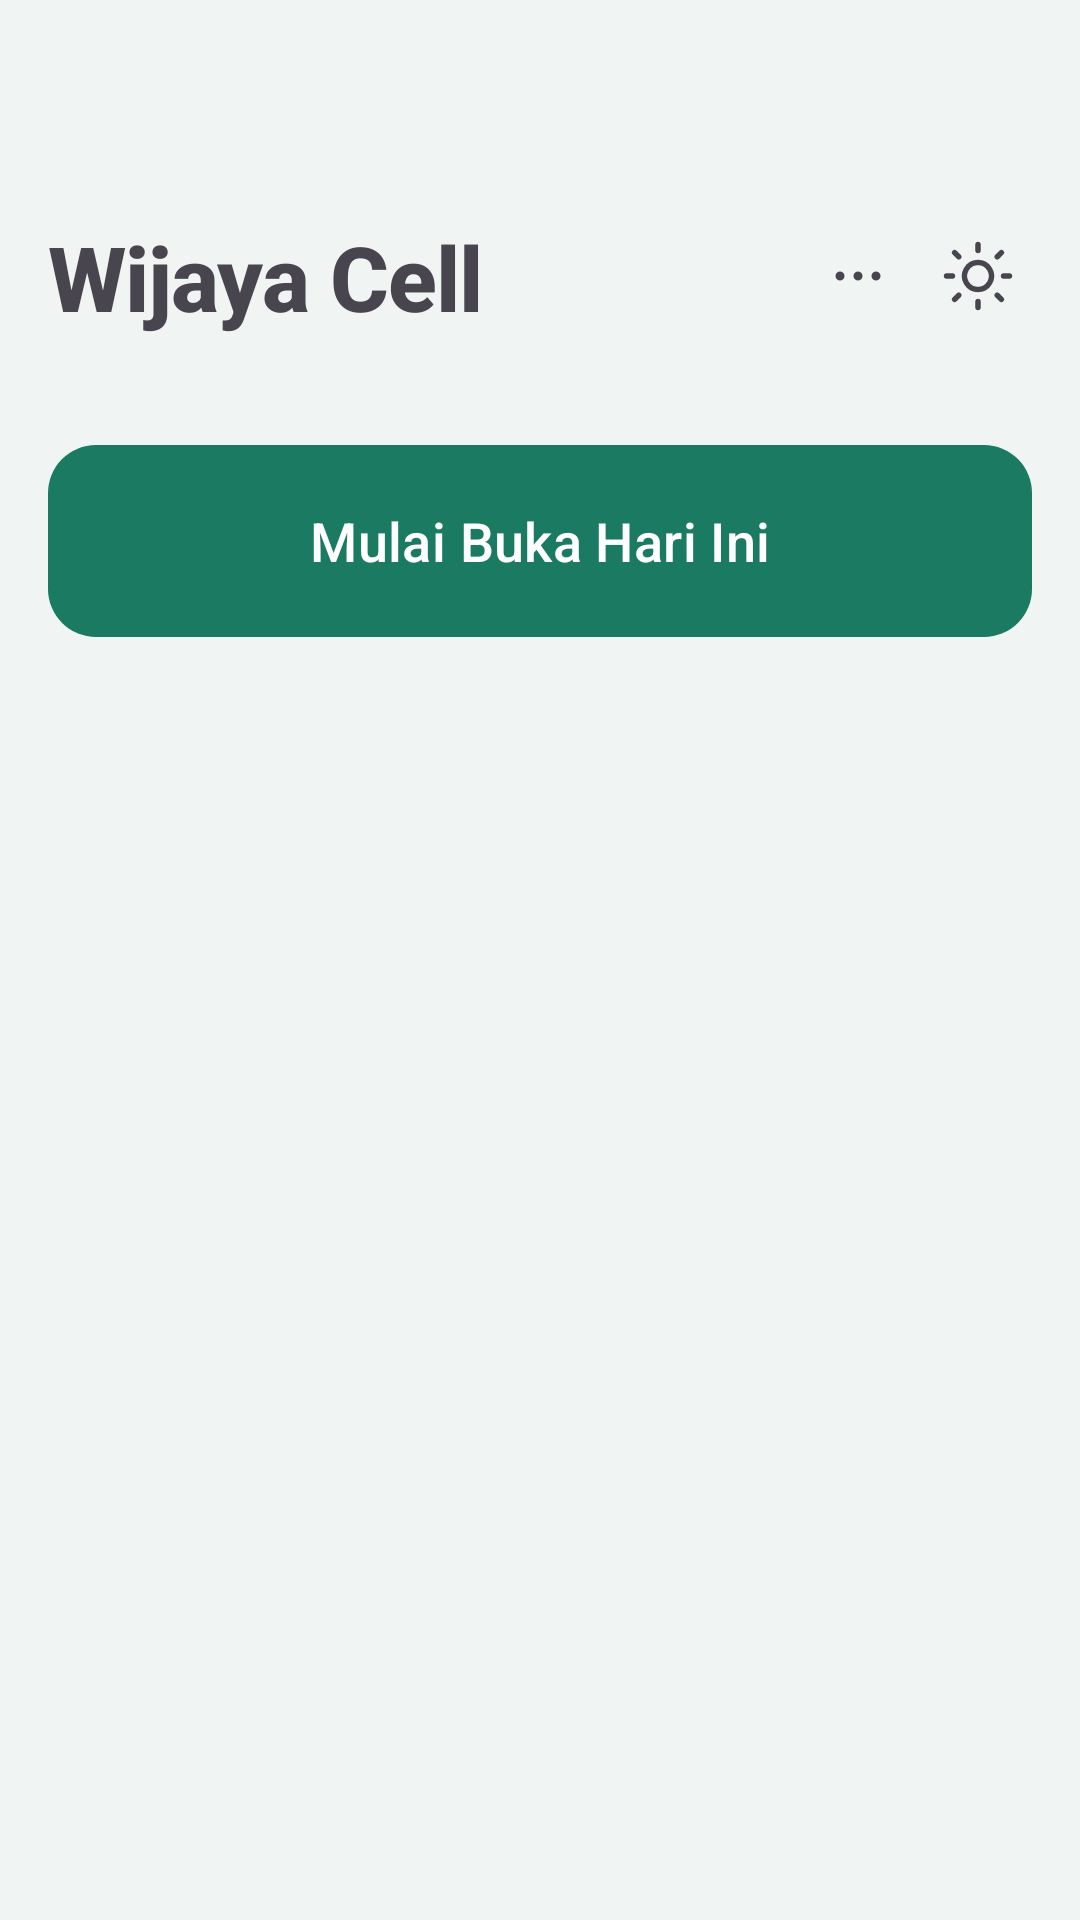

Point at icon controls on the screen. Image size 1080×1920, points as (x=x, y=y).
Ganti tema: (x=978, y=276)
Menu lainnya (import/export): (x=858, y=276)
